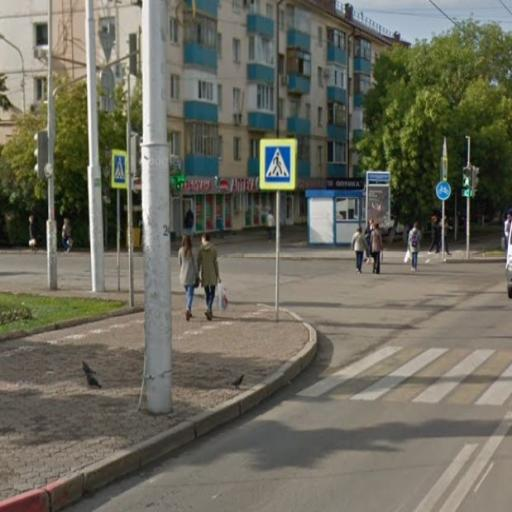traffic_sign: (258, 137, 299, 194), (112, 149, 129, 190), (437, 181, 453, 201)
